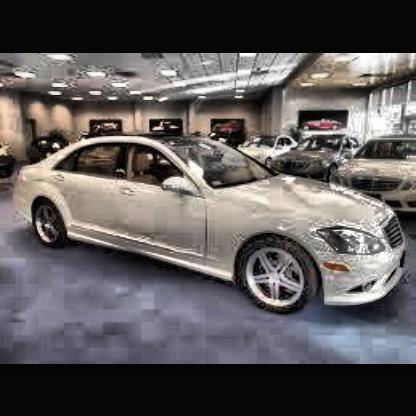Mercedes-Benz S-Class Sedan 2012: (17, 136, 410, 314)
